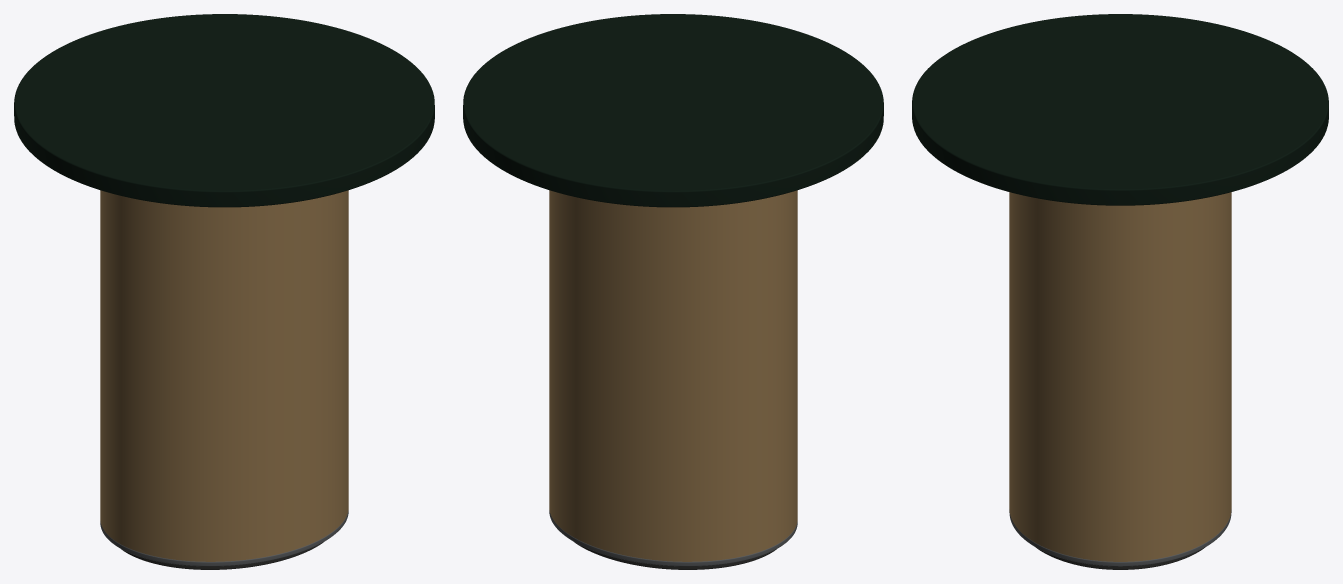
Rendered from side.glb.
3 views of the same model, side by side, from view 1: azimuth 30°, elevation 25°; view 2: azimuth 150°, elevation 25°; view 3: azimuth 270°, elevation 25° (orthographic).
Parts seen in each view (by area): view 1: Base | fabricated stainless oval shell, PVD bronze, Stone top | 20 mm PROVISIONAL | 01_Side_Table, Base | lower steel plate 6 mm, Feet | recessed non marking pad; view 2: Base | fabricated stainless oval shell, PVD bronze, Stone top | 20 mm PROVISIONAL | 01_Side_Table, Base | lower steel plate 6 mm, Feet | recessed non marking pad; view 3: Base | fabricated stainless oval shell, PVD bronze, Stone top | 20 mm PROVISIONAL | 01_Side_Table, Base | lower steel plate 6 mm, Feet | recessed non marking pad.
Boxes of the visible parts, <box> form: Base | fabricated stainless oval shell, PVD bronze: <box>100,190,348,561</box>; Stone top | 20 mm PROVISIONAL | 01_Side_Table: <box>14,14,434,207</box>; Base | lower steel plate 6 mm: <box>100,510,348,566</box>; Feet | recessed non marking pad: <box>121,542,323,569</box>; Base | fabricated stainless oval shell, PVD bronze: <box>549,190,797,561</box>; Stone top | 20 mm PROVISIONAL | 01_Side_Table: <box>463,14,883,207</box>; Base | lower steel plate 6 mm: <box>549,510,797,566</box>; Feet | recessed non marking pad: <box>574,542,776,569</box>; Base | fabricated stainless oval shell, PVD bronze: <box>1009,192,1231,561</box>; Stone top | 20 mm PROVISIONAL | 01_Side_Table: <box>912,14,1328,205</box>; Base | lower steel plate 6 mm: <box>1009,509,1231,566</box>; Feet | recessed non marking pad: <box>1036,547,1204,569</box>.
Bounding box in the file's own units: 0.46 × 0.51 × 0.46.
